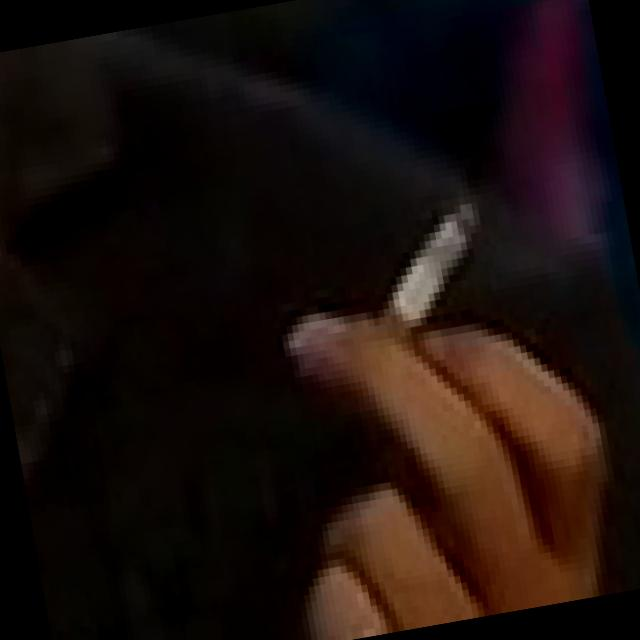smoke: (309, 180, 524, 400)
